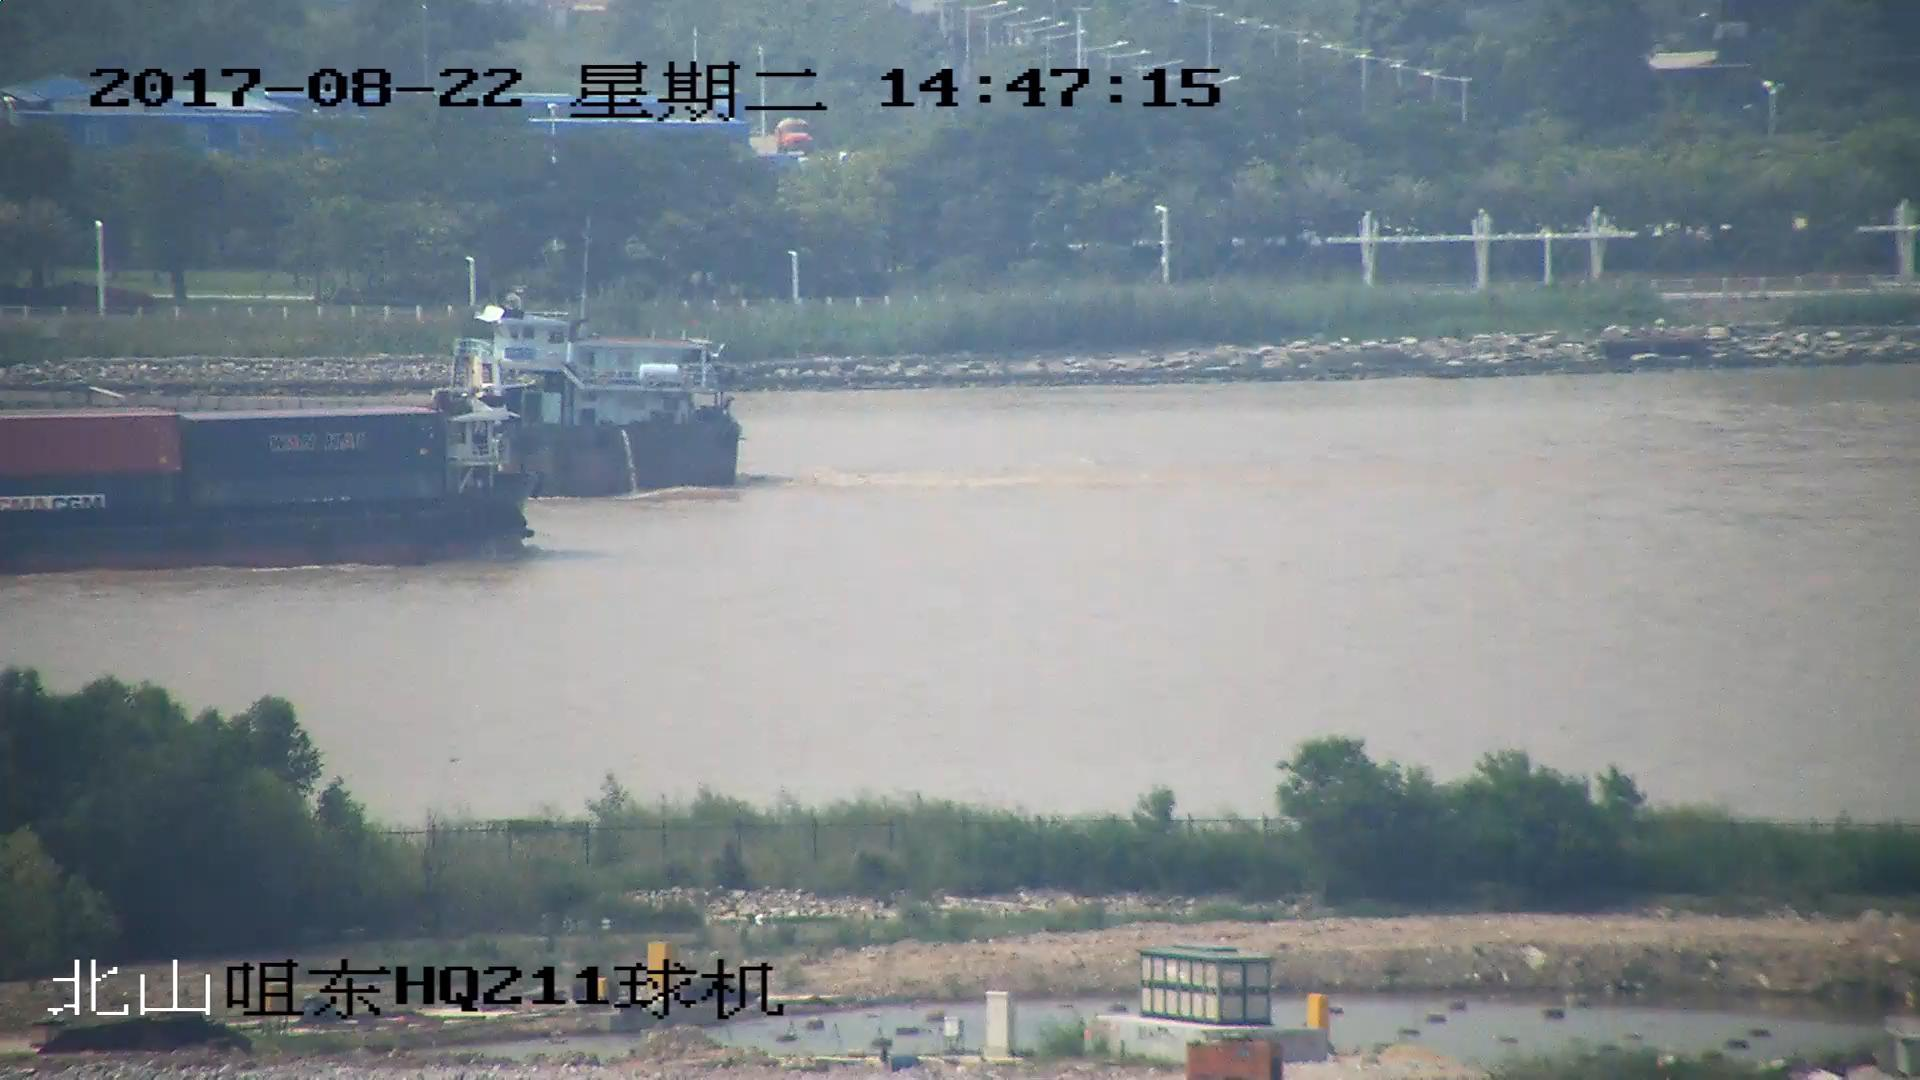Ship: (3, 291, 752, 500), (3, 382, 543, 566)
